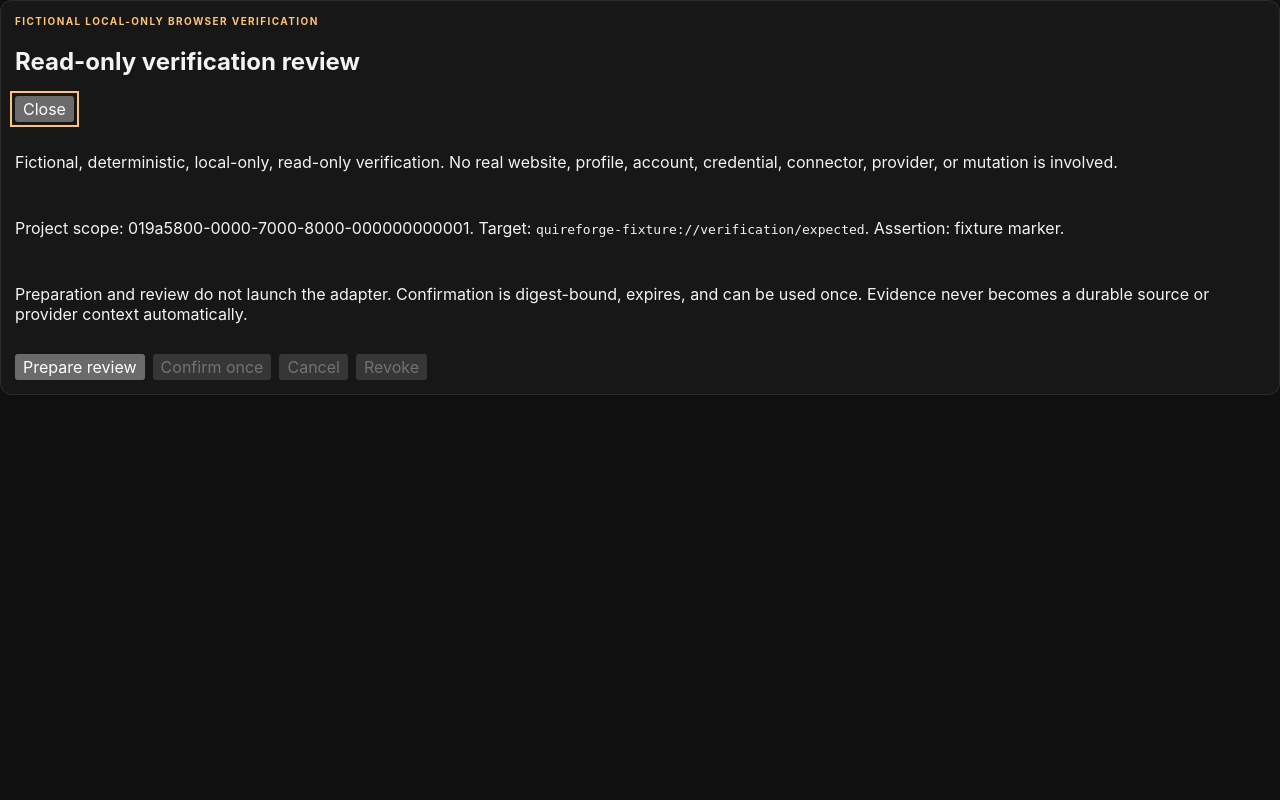
Test: ControlledBrowserVerificationWorkbench › keeps fictional/local-only/read-only scope visible and prevents duplicate confirmation
Expected: the text "No real website, profile, account, credential" is shown, [15,152,1118,172]
Click the button "Prepare review" at coordinates (80, 367), box [15,354,145,380]
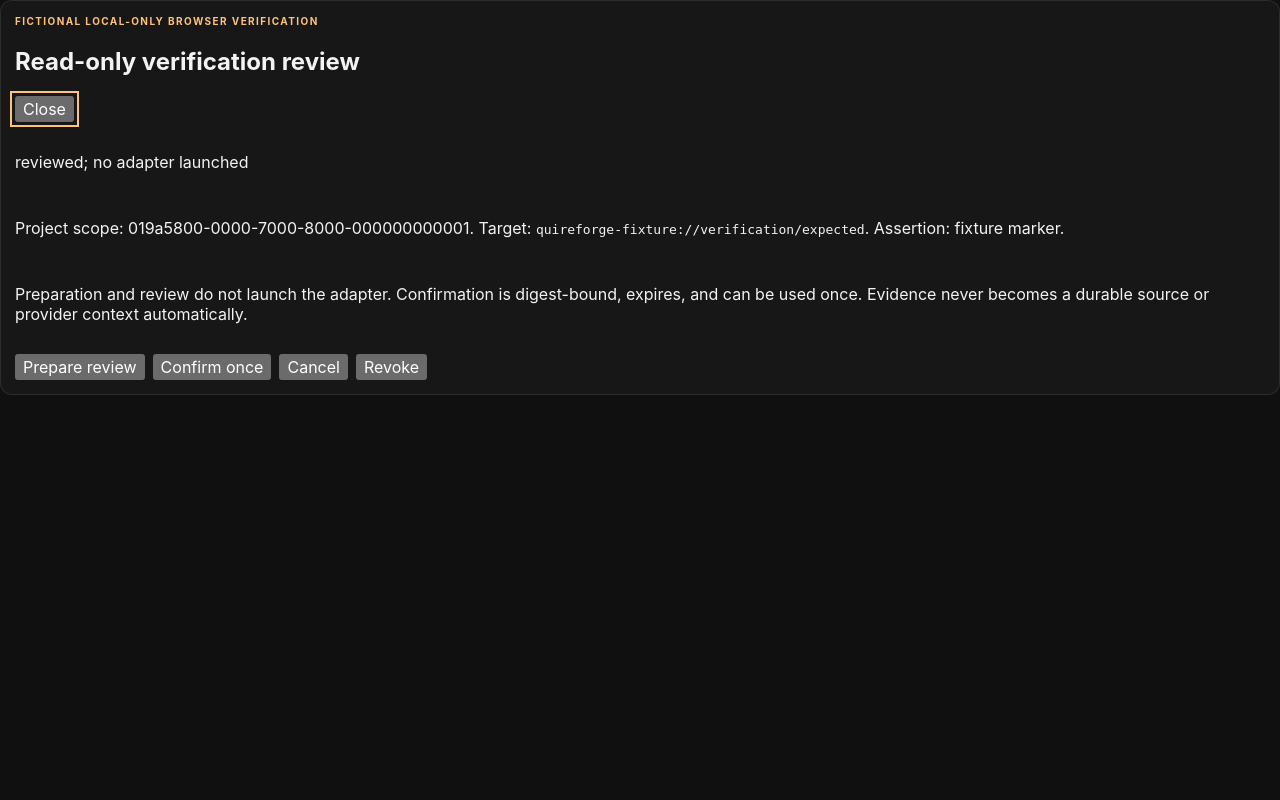
Click the button "Confirm once" at coordinates (212, 367), box [153,354,271,380]
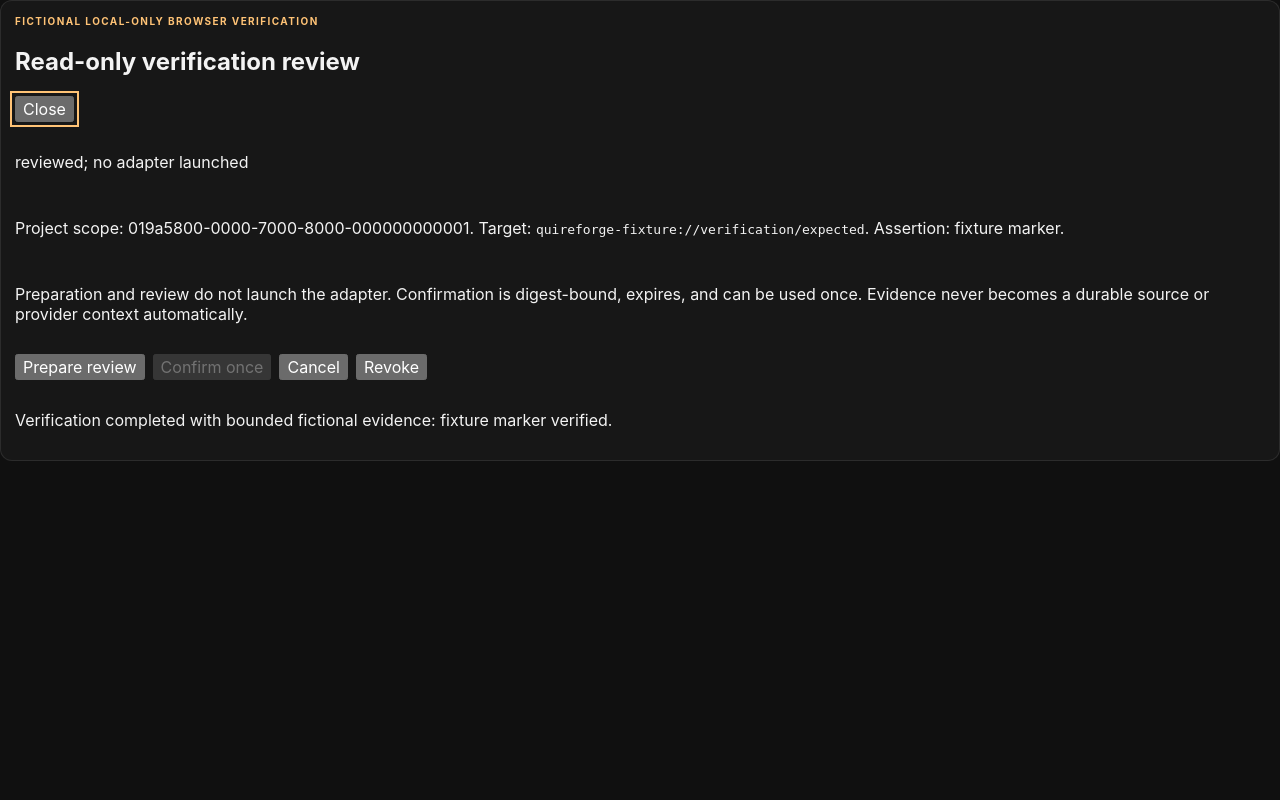
Result: the button "Confirm once" is disabled at [153,354,271,380]
Result: the text "bounded fictional evidence" is shown at [15,410,436,430]
